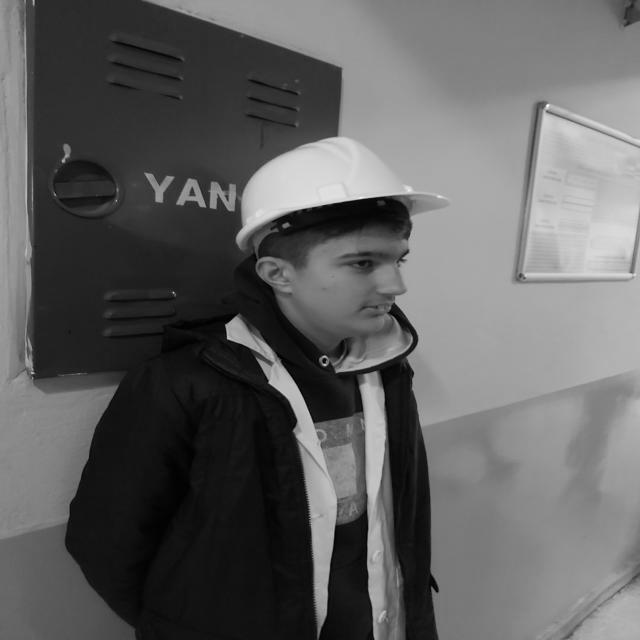construction helmet: (235, 138, 451, 256)
